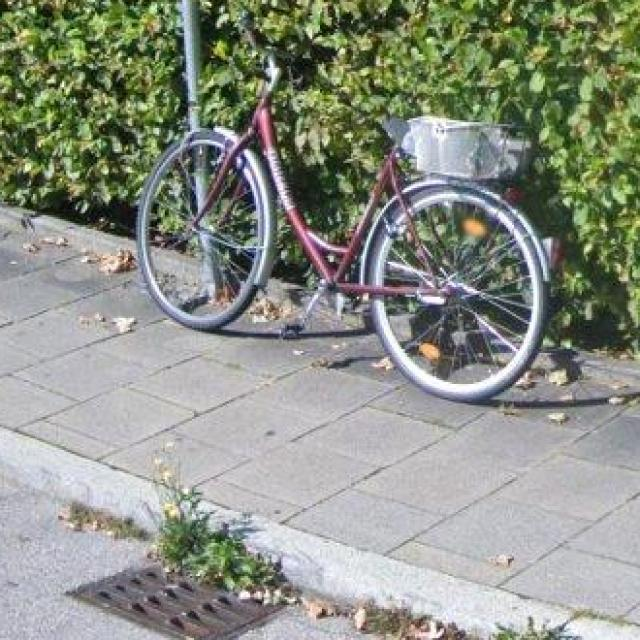bicycle: (137, 54, 552, 404)
